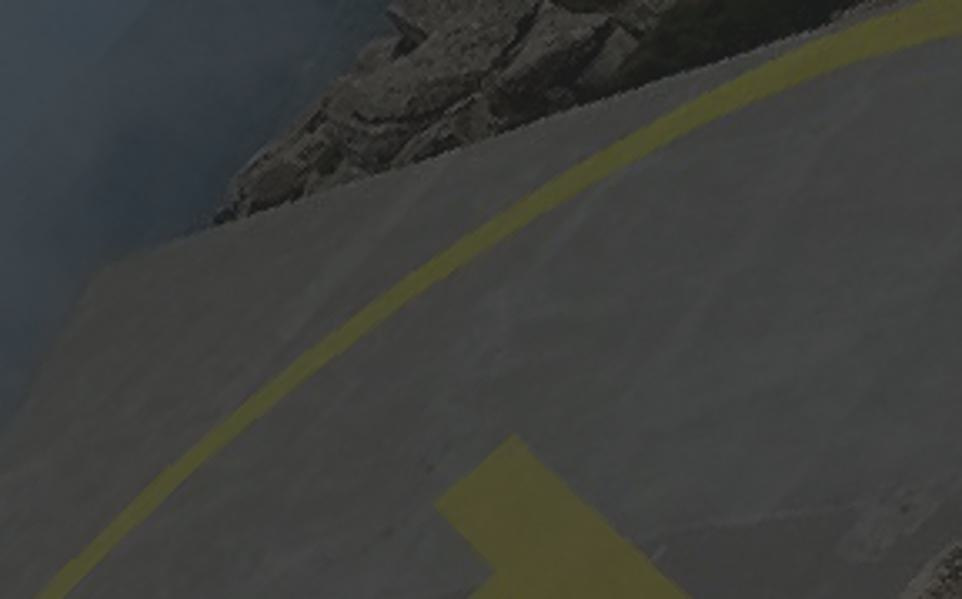Apron: (44, 1, 947, 599)
